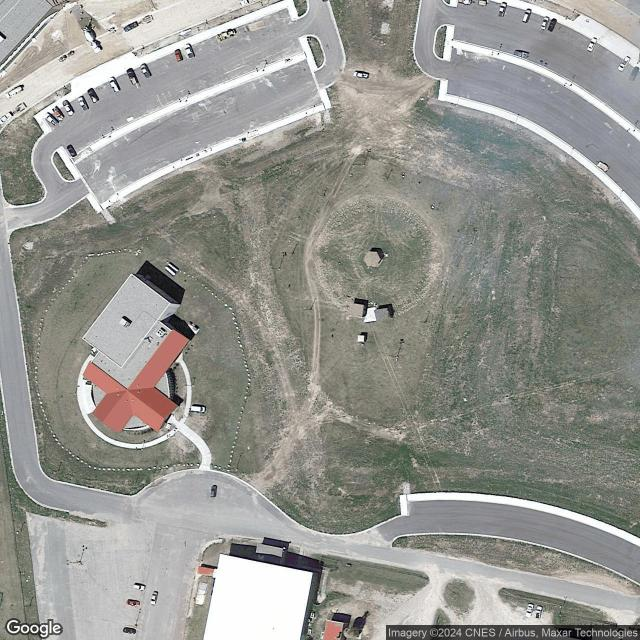Propane: (164, 264, 177, 276), (167, 261, 180, 272)
